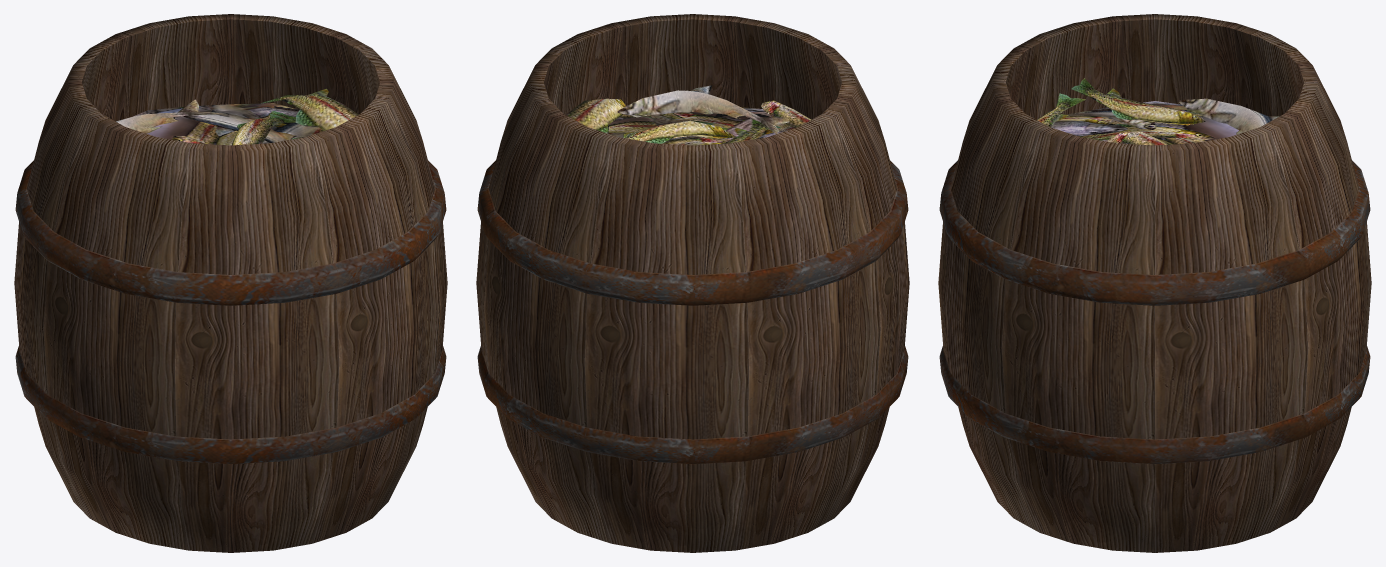
File: storage_barrel_03.fbx
3 views of the same model, side by side, from view 1: azimuth 30°, elevation 25°; view 2: azimuth 150°, elevation 25°; view 3: azimuth 270°, elevation 25° (orthographic).
Visible parts, largest first — view 1: storage_barrel_03; view 2: storage_barrel_03; view 3: storage_barrel_03.
Part boxes in pixels (x1,y1,x2,y2): storage_barrel_03: (14,14,447,552); storage_barrel_03: (476,14,909,552); storage_barrel_03: (938,14,1371,552).
Bounding box in the file's own units: 84.05 × 85.96 × 84.05.
